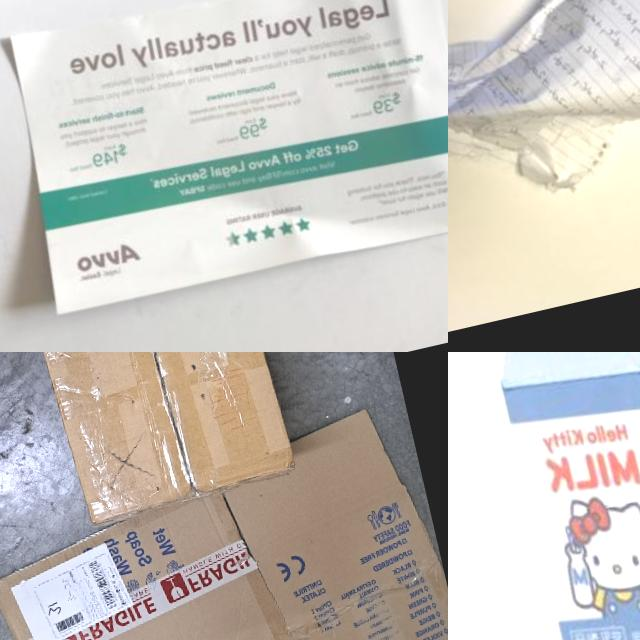caixinha: (463, 352, 640, 640)
papel: (0, 0, 448, 318), (448, 0, 640, 235)
papelão: (0, 401, 448, 640), (0, 352, 301, 527)
